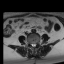CCS_normal: (33, 42, 35, 49)
LFS_stenosis: (36, 41, 38, 46)
LLS_normal: (34, 42, 36, 47)
RFS_normal: (29, 41, 31, 46)
RLS_normal: (31, 43, 33, 47)
